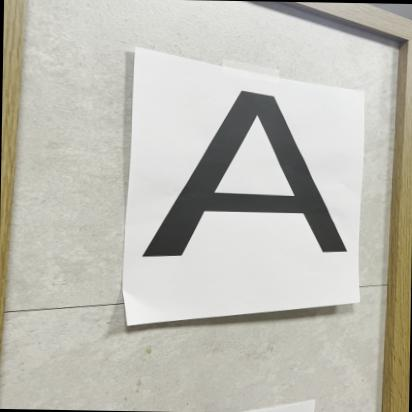seat: (150, 86, 364, 279)
